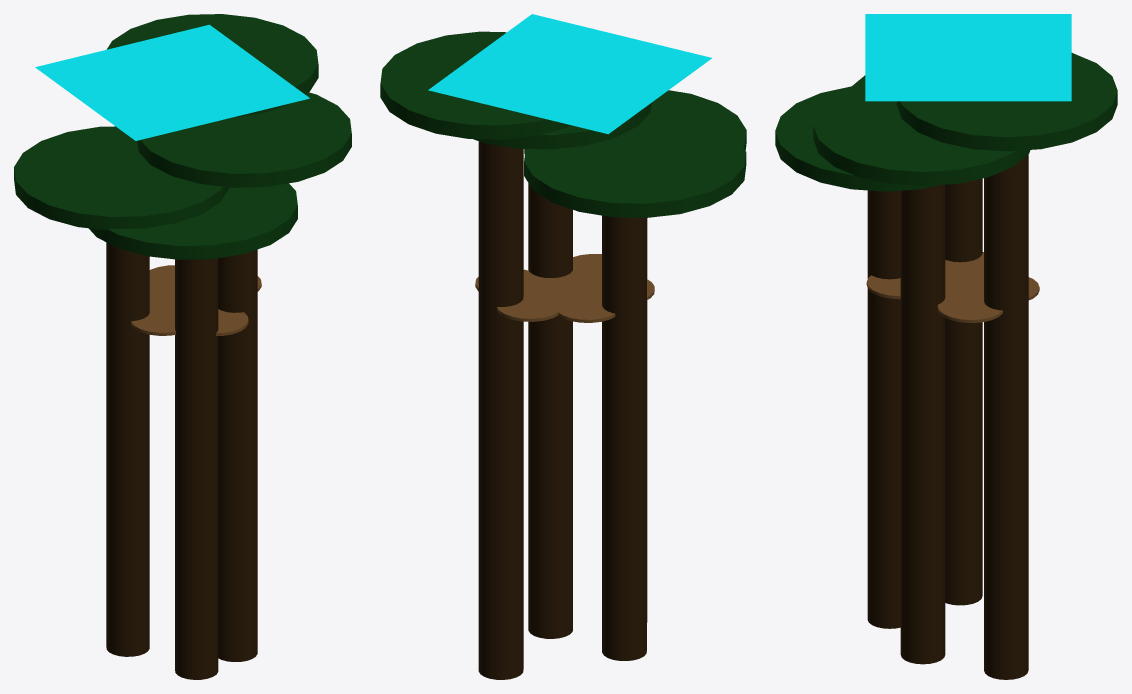
File: Gathering Area 01 To Final.fbx
The picture shows the model from 3 angles, left to right: view 1: azimuth 30°, elevation 25°; view 2: azimuth 150°, elevation 25°; view 3: azimuth 270°, elevation 25°; orthographic projection. The views are drawn at different scales.
Visible parts, largest first — view 1: Tree_01, Tree_01__1_, Plane, Tree, Branches__1__1, Branches, Branches__1_, Branches_1, Gathering_Area__4_, Gathering_Area__3_, Gathering_Area__6_; view 2: Tree_02__1_, Tree_01__1_, Plane, Tree, Branches__1__1, Branches_1, Branches, Branches__1_, Gathering_Area__6_, Gathering_Area__5_, Gathering_Area__2_, Gathering_Area__3_; view 3: Tree_02__1_, Tree, Plane, Tree_01, Tree_01__1_, Branches, Branches_1, Branches__1_, Gathering_Area, Gathering_Area__2_, Gathering_Area__3_, Gathering_Area__5_.
Boxes of the visible parts, box(x1,y1,x2,y2) form: Tree_01: box(175, 258, 218, 679); Tree_01__1_: box(106, 242, 149, 656); Plane: box(35, 24, 309, 140); Tree: box(218, 249, 257, 661); Branches__1__1: box(14, 126, 229, 230); Branches: box(137, 92, 351, 187); Branches__1_: box(89, 183, 297, 259); Branches_1: box(107, 14, 318, 117); Gathering_Area__4_: box(131, 305, 175, 335); Gathering_Area__3_: box(216, 310, 248, 335); Gathering_Area__6_: box(149, 265, 174, 292); Tree_02__1_: box(478, 141, 523, 679); Tree_01__1_: box(602, 215, 646, 660); Plane: box(428, 14, 711, 134); Tree: box(528, 183, 572, 638); Branches__1__1: box(524, 110, 746, 217); Branches_1: box(380, 31, 570, 139); Branches: box(473, 103, 651, 149); Branches__1_: box(524, 90, 746, 154); Gathering_Area__6_: box(497, 290, 563, 321); Gathering_Area__5_: box(555, 291, 615, 322); Gathering_Area__2_: box(526, 271, 591, 298); Gathering_Area__3_: box(566, 254, 601, 282); Tree_02__1_: box(984, 154, 1028, 679); Tree: box(900, 184, 945, 664); Plane: box(865, 14, 1071, 101); Tree_01: box(867, 190, 900, 628); Tree_01__1_: box(945, 178, 982, 605); Branches: box(813, 86, 1030, 185); Branches_1: box(896, 53, 1117, 151); Branches__1_: box(775, 86, 939, 191); Gathering_Area: box(937, 291, 1002, 323); Gathering_Area__2_: box(944, 272, 982, 300); Gathering_Area__3_: box(866, 275, 900, 299); Gathering_Area__5_: box(946, 252, 983, 279).
Size of the model in its own units: 7989 by 14577 by 7686.
